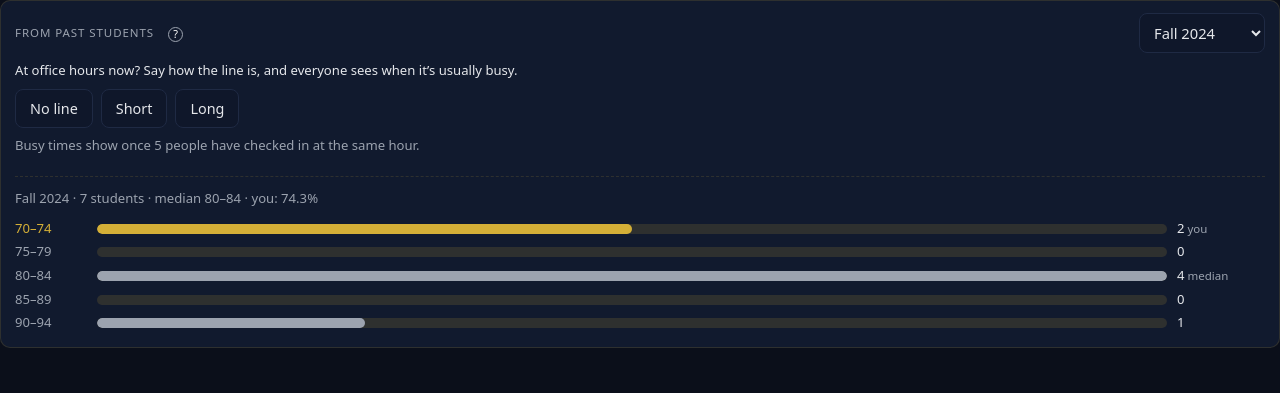
Test: ClassFigures › says why a check-in couldn't be counted
Click the button "Short". click: (134, 108)
box: [101, 89, 167, 128]
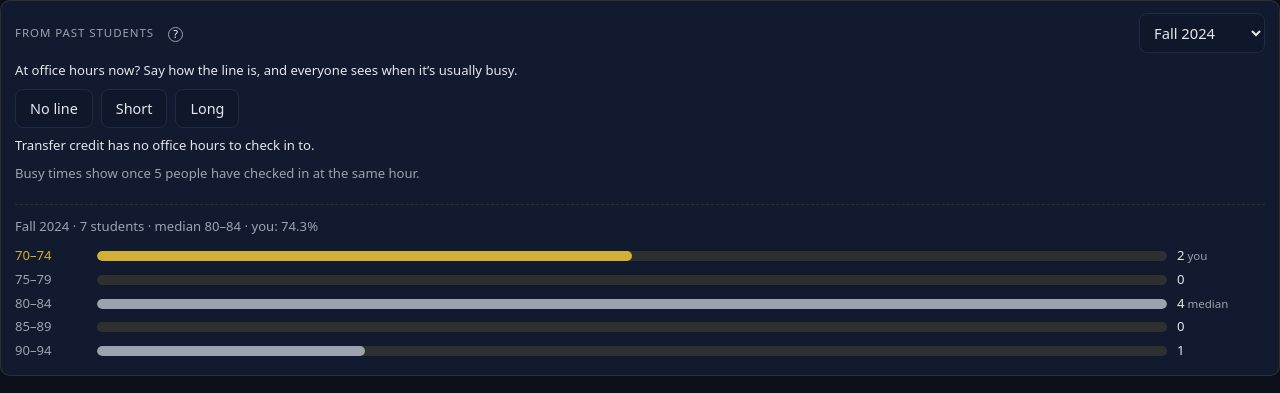
Expected: the message shows "Transfer credit", [15, 136, 315, 154]
